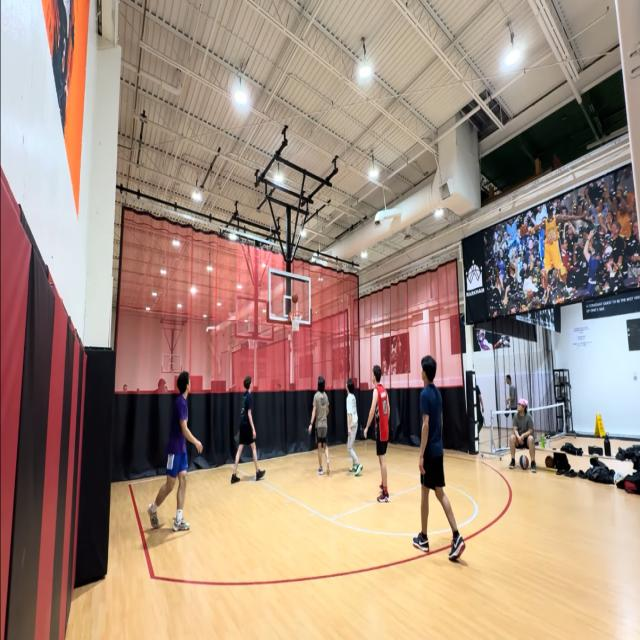Basketball: (292, 292, 298, 303)
Basketball Rim: (290, 310, 303, 331)
